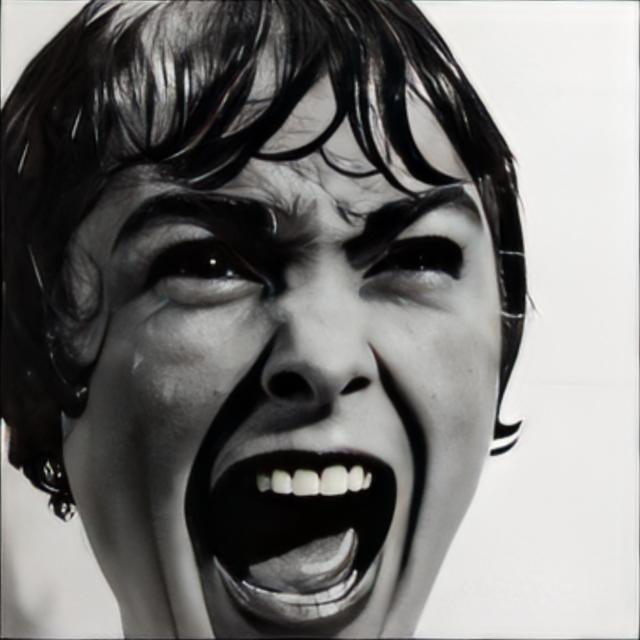fear: (58, 0, 504, 640)
